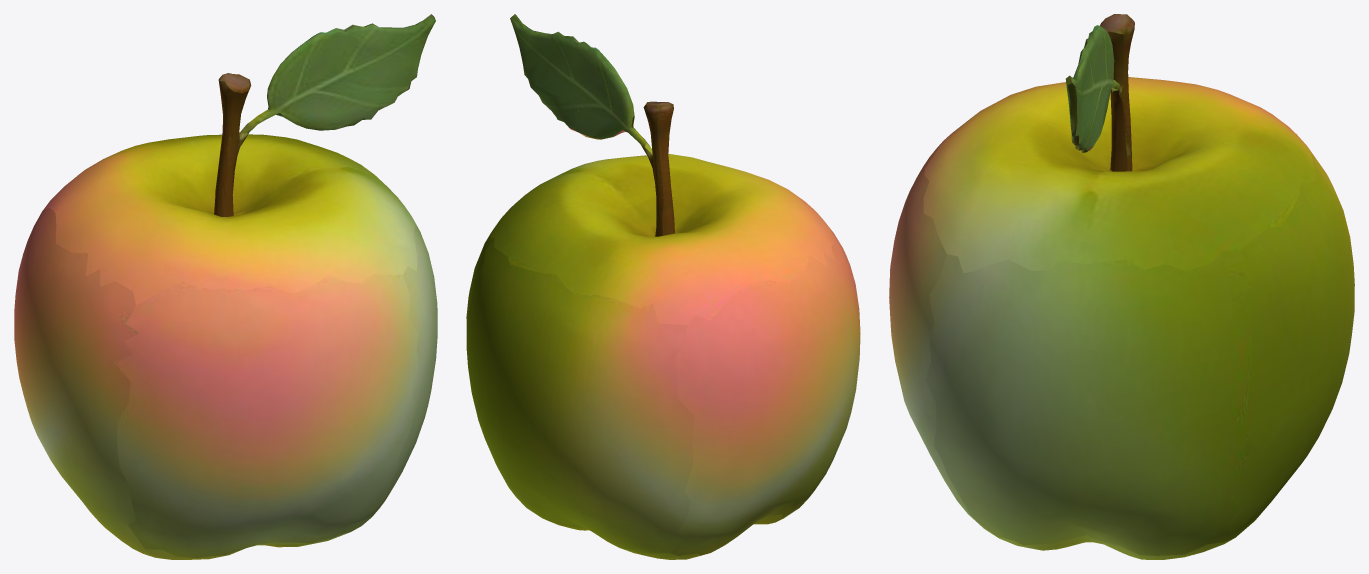
Rendered from wild_apple.glb.
3 views of the same model, side by side, from view 1: azimuth 30°, elevation 25°; view 2: azimuth 150°, elevation 25°; view 3: azimuth 270°, elevation 25° (orthographic). The views are drawn at different scales.
Visible parts, largest first — view 1: item_wild_apple; view 2: item_wild_apple; view 3: item_wild_apple.
Boxes of the visible parts, bbox=[...] form: item_wild_apple: bbox=[14, 14, 437, 559]; item_wild_apple: bbox=[466, 14, 860, 559]; item_wild_apple: bbox=[889, 14, 1354, 559].
Bounding box in the file's own units: 0.8133 × 1 × 0.7931.
Materials: 1 (1 with a texture image).
